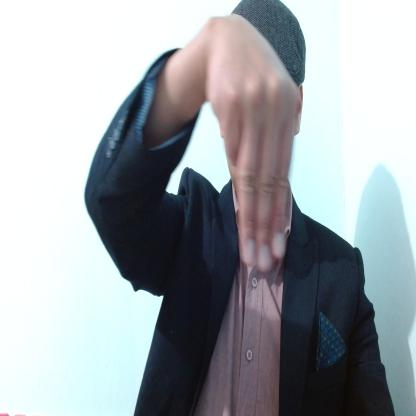M: (209, 17, 300, 273)
